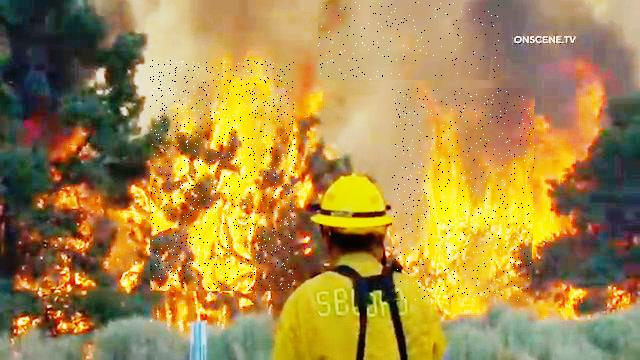fire: (150, 60, 295, 291), (392, 88, 535, 301), (319, 2, 500, 80)
